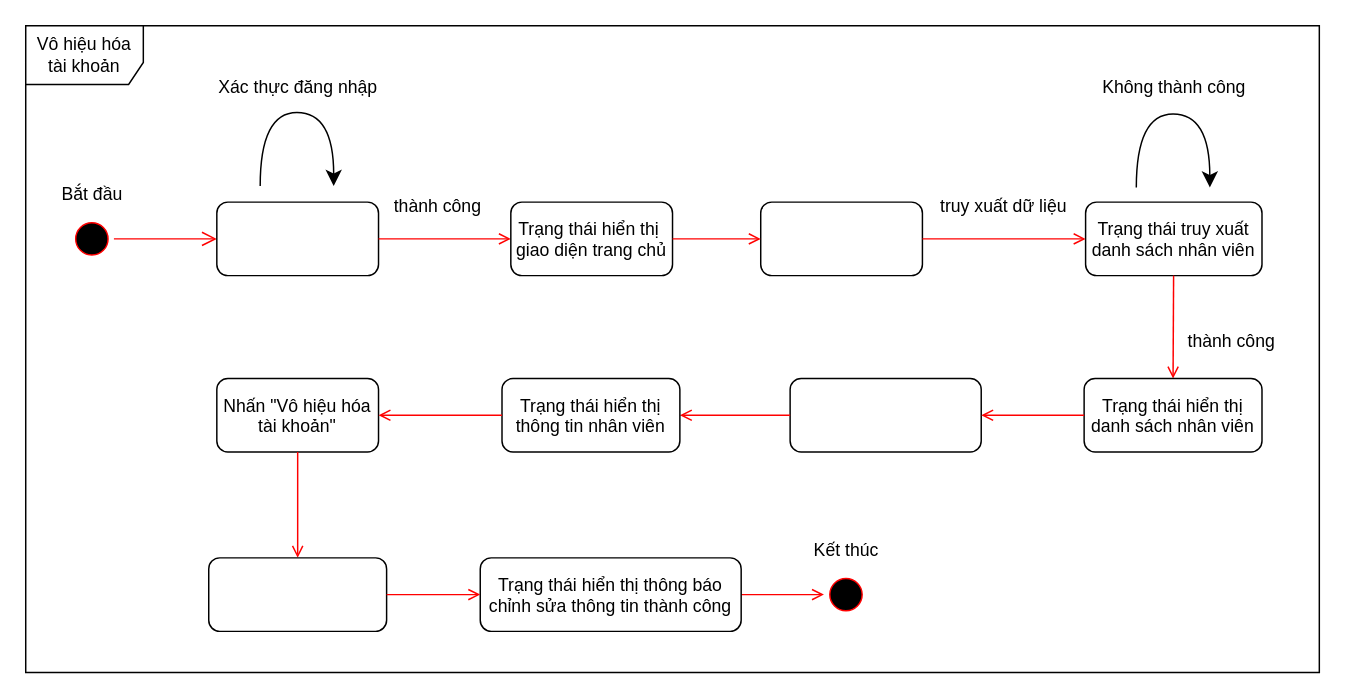
Image size: 1345x698. Some labels were removed from this diagram. Each missing label, with the box of its shape:
Chọn nhân viên để vô hiệu hóa tài khoản: (789, 377, 981, 452)
Nhấn "Danh sách nhân viên": (759, 201, 922, 276)
Trạng thái hiển thị thông báo xác nhận: (207, 556, 387, 631)
Đăng nhập: (215, 201, 379, 276)
